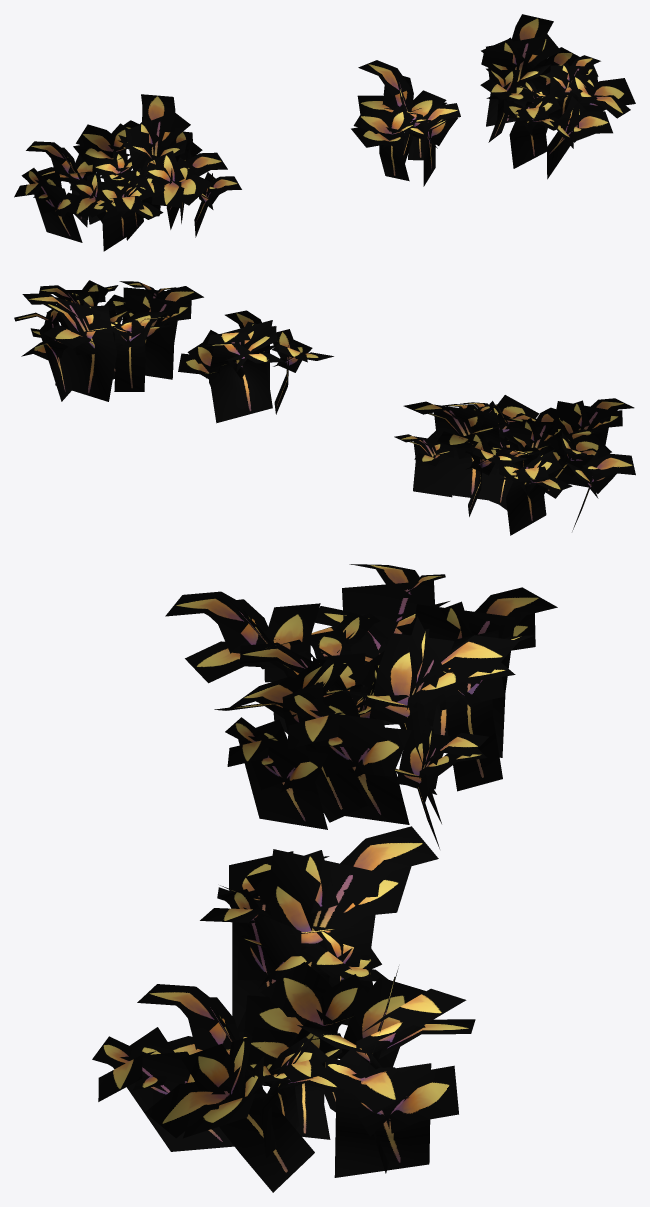
File: yellowPlants.fbx
3 renders of one model, top to bottom at view 1: azimuth 30°, elevation 25°; view 2: azimuth 150°, elevation 25°; view 3: azimuth 270°, elevation 25°, orthographic. The views are drawn at different scales.
Parts seen in each view (by area): view 1: Leafy_Plants_Var_3, Leafy_Plants_Var_2, Leafy_Plants_Var_1; view 2: Leafy_Plants_Var_3, Leafy_Plants_Var_2, Leafy_Plants_Var_1; view 3: Leafy_Plants_Var_3, Leafy_Plants_Var_2, Leafy_Plants_Var_1.
Part boxes in pixels (x1,y1,x2,y2): Leafy_Plants_Var_3: [14, 94, 241, 251]; Leafy_Plants_Var_2: [480, 14, 635, 179]; Leafy_Plants_Var_1: [351, 60, 460, 186]; Leafy_Plants_Var_3: [394, 395, 635, 535]; Leafy_Plants_Var_2: [14, 280, 203, 401]; Leafy_Plants_Var_1: [178, 310, 333, 423]; Leafy_Plants_Var_3: [165, 564, 557, 848]; Leafy_Plants_Var_2: [92, 962, 475, 1192]; Leafy_Plants_Var_1: [200, 826, 438, 1029].
Bounding box in the file's own units: 524 × 86.85 × 184.
